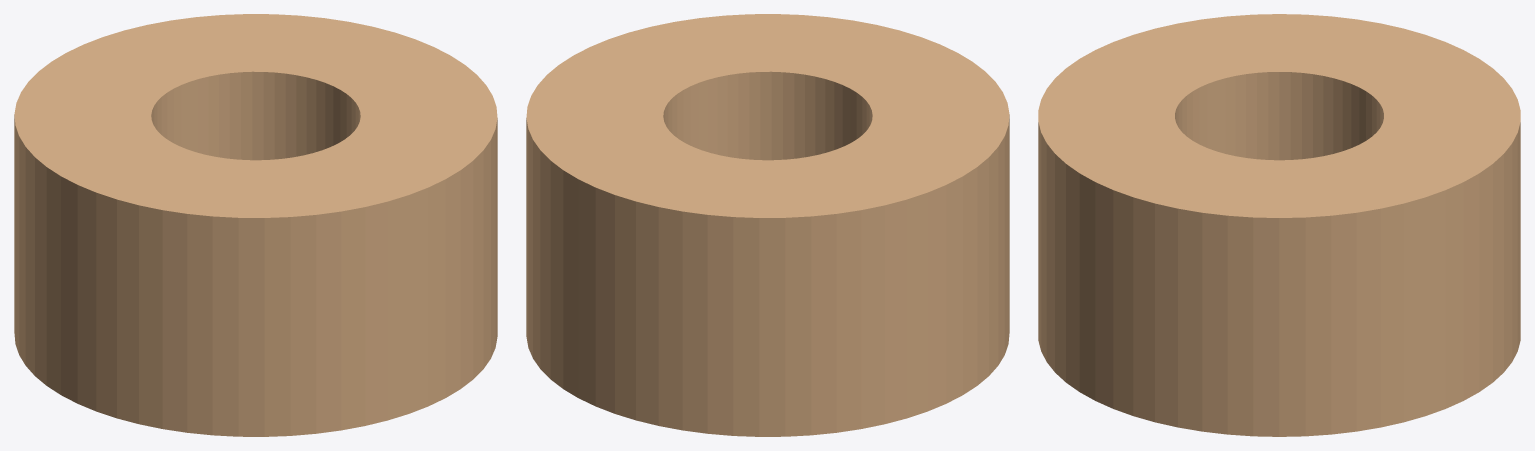
Rendered from alternator-field-coil.glb.
3 renders of one model, left to right at view 1: azimuth 30°, elevation 25°; view 2: azimuth 150°, elevation 25°; view 3: azimuth 270°, elevation 25°, orthographic.
Parts seen in each view (by area): view 1: world; view 2: world; view 3: world.
Part boxes in pixels (<box>): world: <box>14,14,497,436</box>; world: <box>526,14,1009,436</box>; world: <box>1038,14,1520,436</box>.
Size of the model in its own units: 0.06 by 0.03 by 0.0599.
